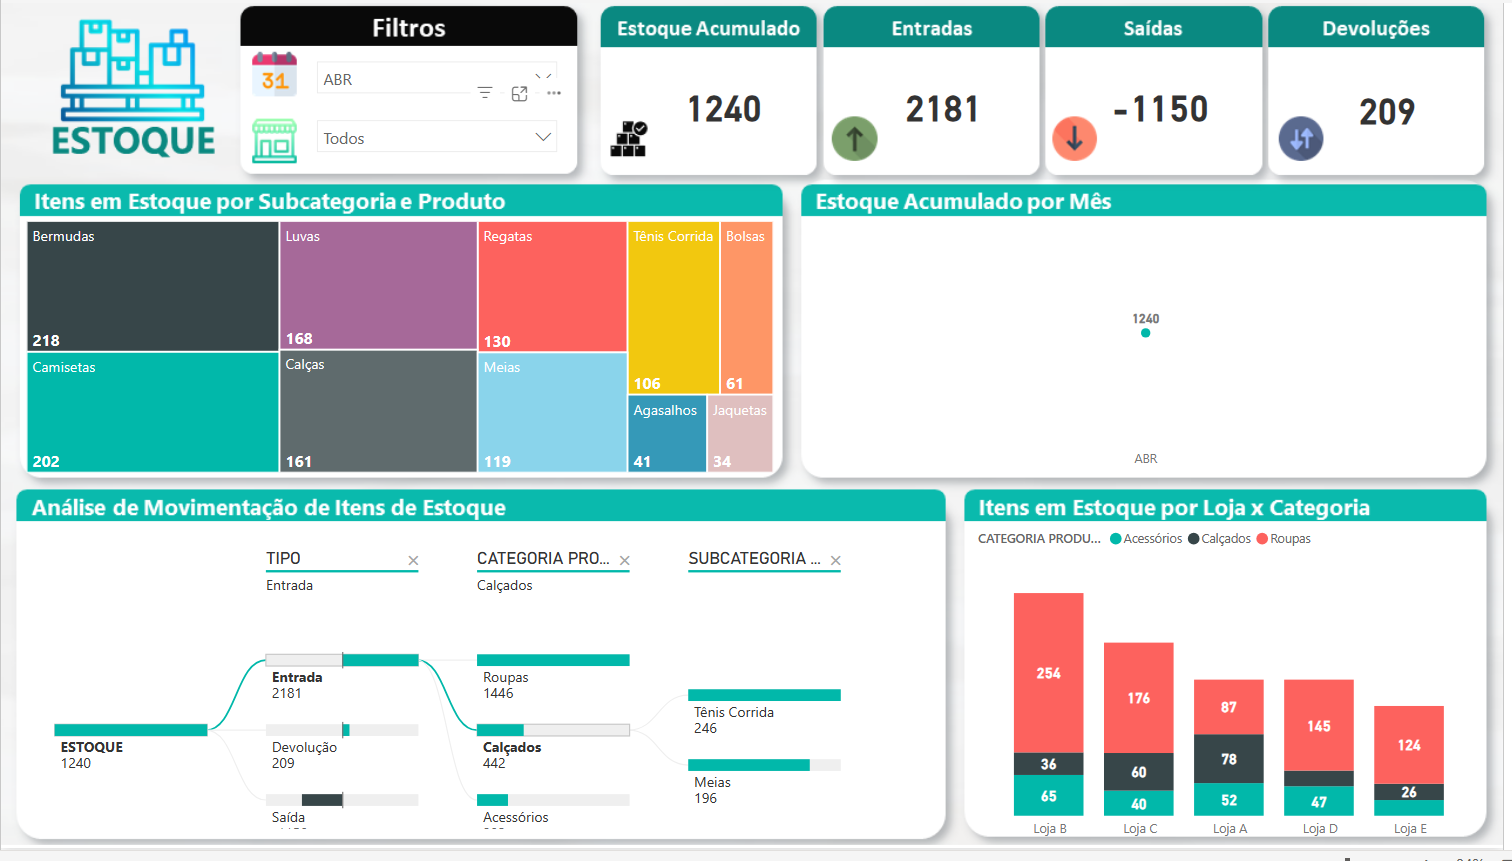

The page's visual inventory and layout, read from the dashboard file:
{"tool":"powerbi","page":{"name":"Analise da Dados","canvas":[1280,720],"ordinal":0},"visuals":[{"type":"columnChart","fields":{"Y":["Sum(Tab_Estoque.ESTOQUE)"],"Category":["Tab_Estoque.ID LOJA"],"Series":["Tab_Produto.CATEGORIA PRODUTO"]},"box":[827.5,437.5,440,282.5],"z":0},{"type":"areaChart","fields":{"Category":["Tab_Data.Mes Abreviado"],"Y":["Sum(Tab_Estoque.ESTOQUE)"]},"box":[683.8,188.1,583.7,217.1],"z":1000},{"type":"decompositionTreeVisual","fields":{"Analyze":["Sum(Tab_Estoque.ESTOQUE)"],"ExplainBy":["Tab_Estoque.TIPO","Tab_Produto.CATEGORIA PRODUTO","Tab_Produto.SUBCATEGORIA PRODUTO"]},"box":[16.3,448.8,787.2,260.5],"z":2000},{"type":"card","fields":{"Values":["Sum(Tab_Estoque.ESTOQUE)"]},"box":[537.2,37.2,158.1,102.3],"z":3000},{"type":"card","fields":{"Values":["Sum(Tab_Estoque.ESTOQUE)"]},"box":[724.4,37.2,158.1,102.3],"z":4000},{"type":"card","fields":{"Values":["Sum(Tab_Estoque.ESTOQUE)"]},"box":[909.3,37.2,158.1,102.3],"z":5000},{"type":"card","fields":{"Values":["Sum(Tab_Estoque.ESTOQUE)"]},"box":[1102.3,39.5,158.1,102.3],"z":6000},{"type":"treemap","fields":{"Values":["Sum(Tab_Estoque.ESTOQUE)"],"Group":["Tab_Produto.SUBCATEGORIA PRODUTO"]},"box":[16.9,180.9,646.4,224.3],"z":7000},{"type":"slicer","fields":{"Values":["Tab_Data.Mes Abreviado"]},"box":[259.3,39.8,225.5,48.2],"z":8000},{"type":"slicer","fields":{"Values":["Tab_Estoque.ID LOJA"]},"box":[259.3,89.2,225.5,48.2],"z":9000}]}

Visuals, with their boxes in screenshot pixels (x1, y1, x2, y2), scaled from the page's 1280x720 canvas onto the 1512x861 screenshot:
columnChart - Sum(Tab_Estoque.ESTOQUE) x Tab_Estoque.ID LOJA: detection(977, 523, 1497, 860)
areaChart - Tab_Data.Mes Abreviado x Sum(Tab_Estoque.ESTOQUE): detection(808, 225, 1497, 485)
decompositionTreeVisual - Sum(Tab_Estoque.ESTOQUE) x Tab_Estoque.TIPO: detection(19, 537, 949, 848)
card - Sum(Tab_Estoque.ESTOQUE): detection(635, 44, 821, 167)
card - Sum(Tab_Estoque.ESTOQUE): detection(856, 44, 1042, 167)
card - Sum(Tab_Estoque.ESTOQUE): detection(1074, 44, 1261, 167)
card - Sum(Tab_Estoque.ESTOQUE): detection(1302, 47, 1489, 170)
treemap - Sum(Tab_Estoque.ESTOQUE) x Tab_Produto.SUBCATEGORIA PRODUTO: detection(20, 216, 784, 485)
slicer - Tab_Data.Mes Abreviado: detection(306, 48, 573, 105)
slicer - Tab_Estoque.ID LOJA: detection(306, 107, 573, 164)
